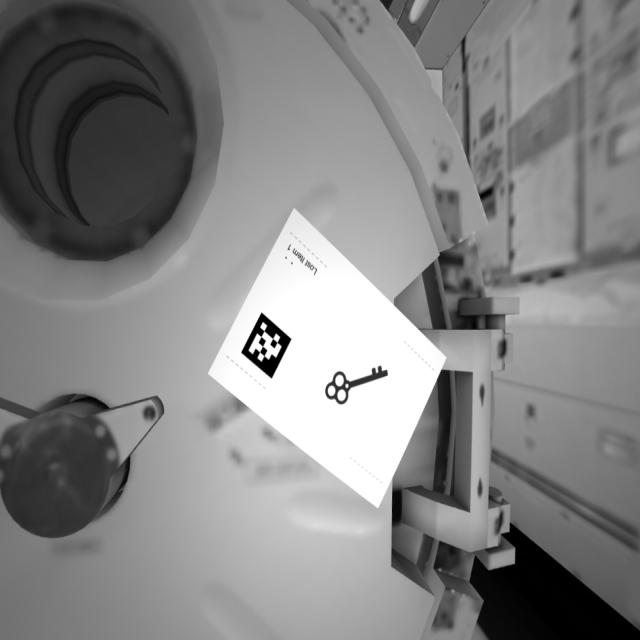key: (318, 351, 398, 415)
